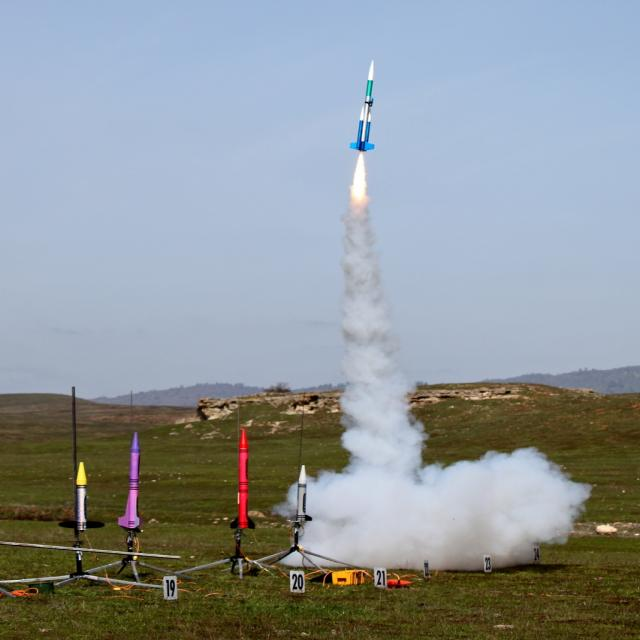rocket: (345, 57, 377, 362)
